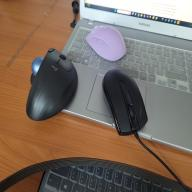mouse: (25, 46, 78, 121), (102, 68, 148, 135), (86, 24, 128, 62)
